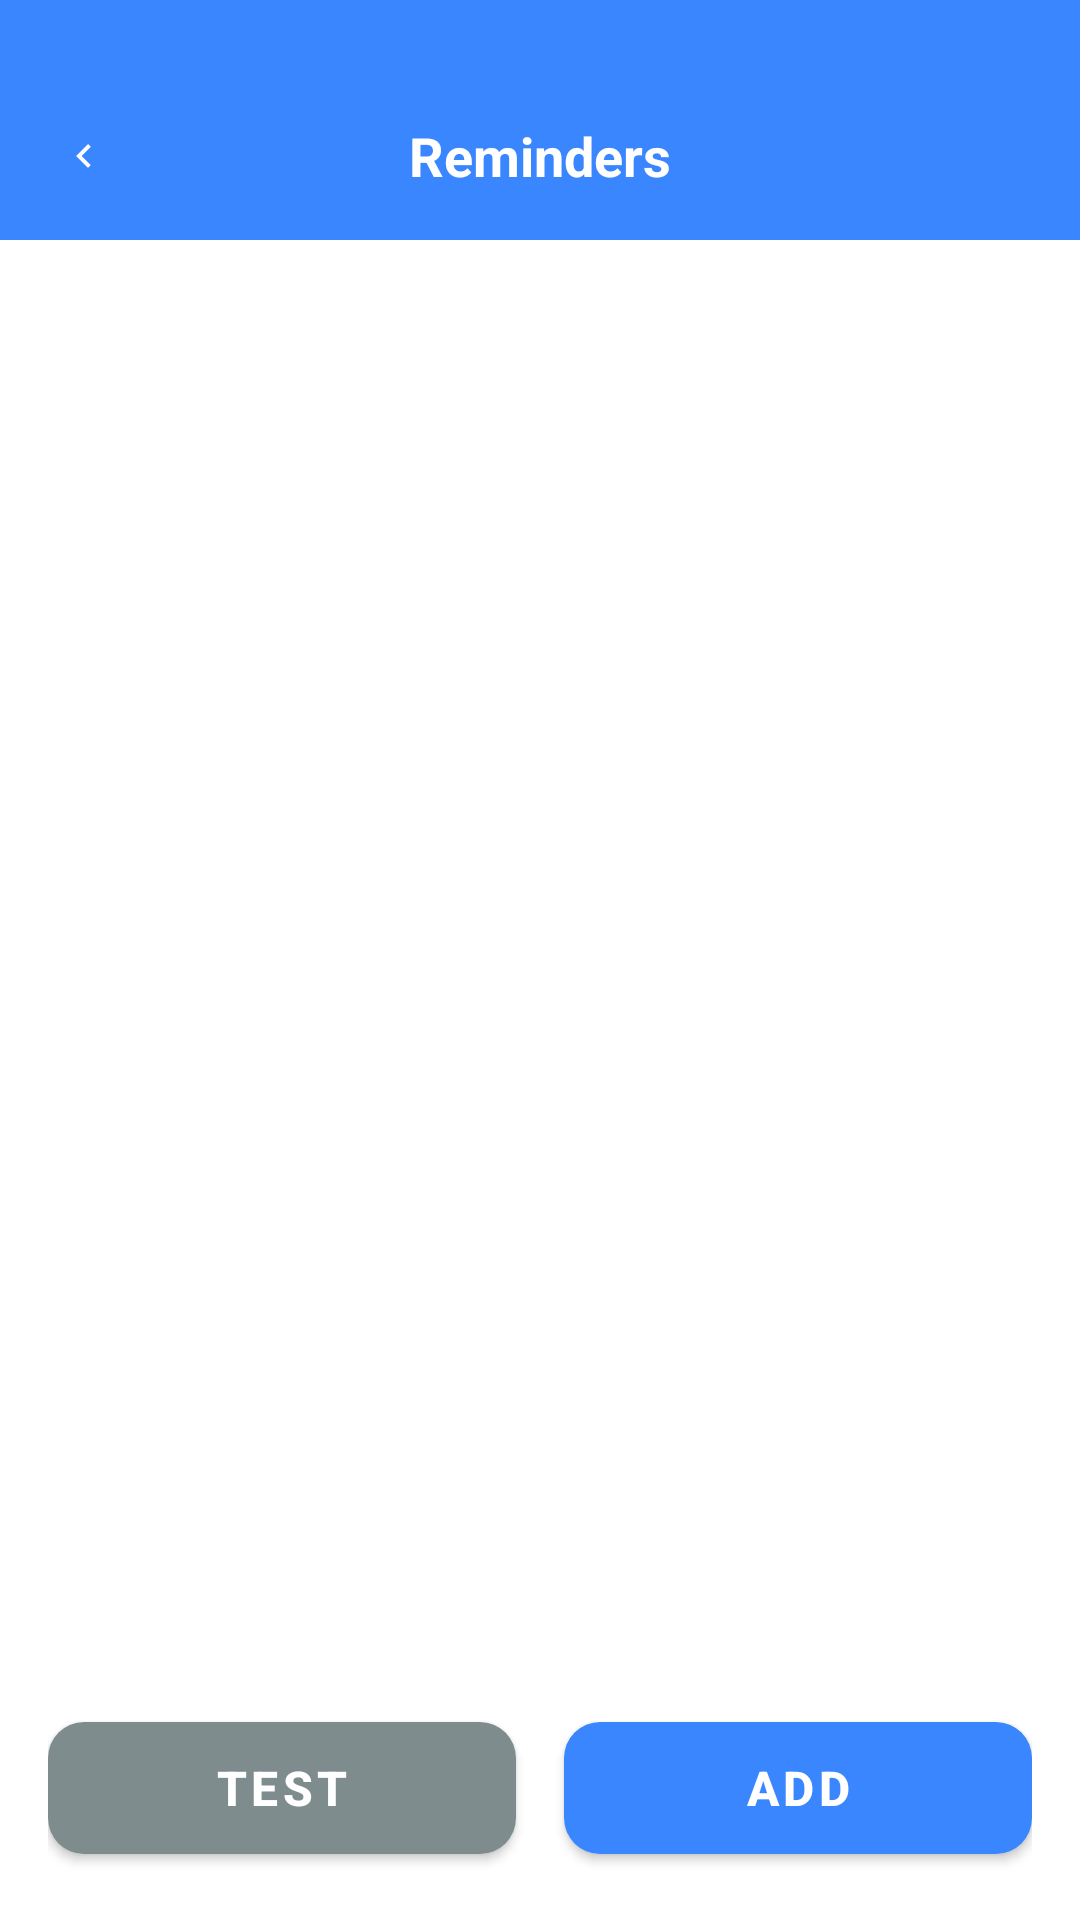

Where icons sit on this 1080w x 1920h app screen, as (x1, y1, x2, y2):
chevron backward: (76, 144, 91, 168)
